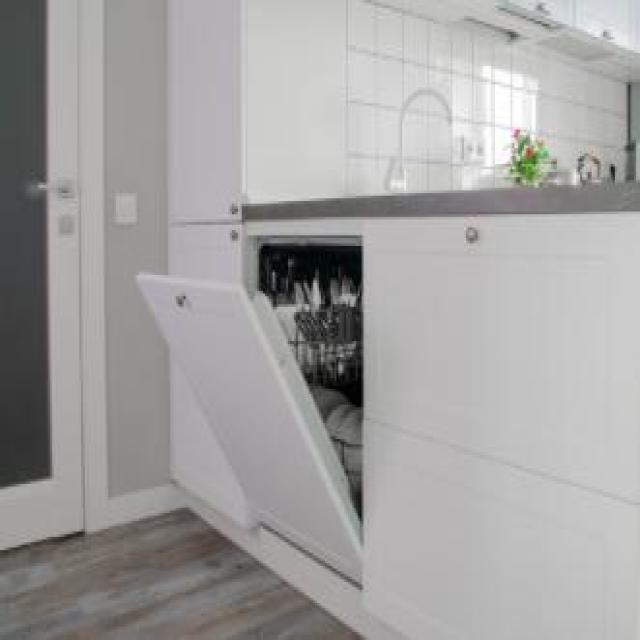dishwasher: (135, 233, 360, 584)
